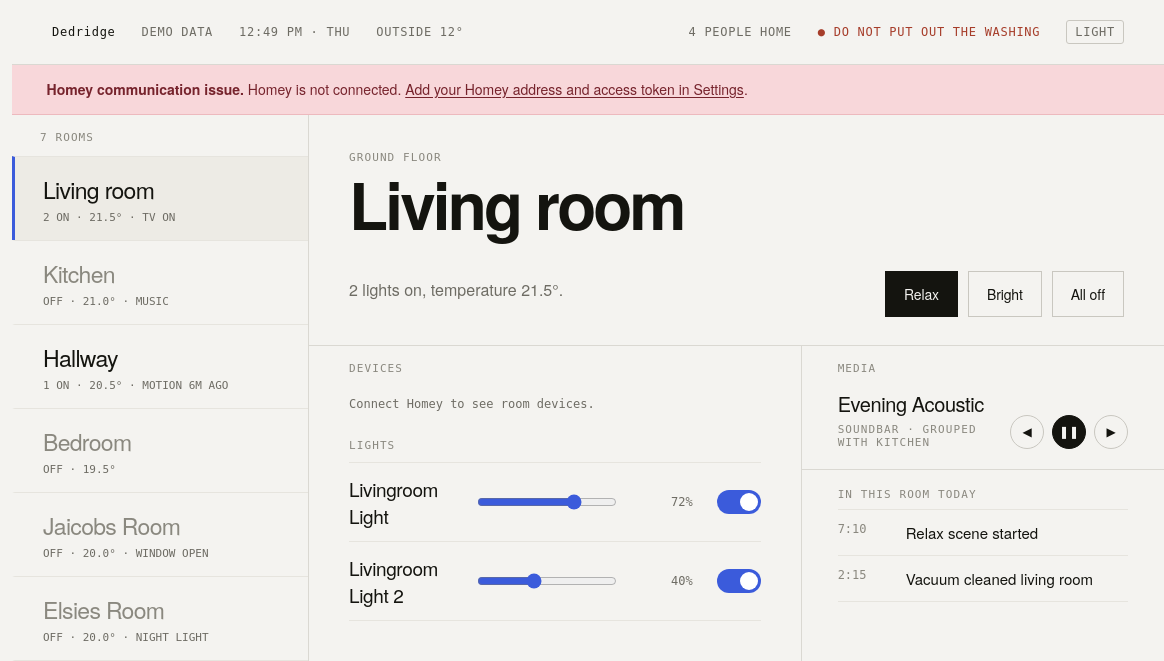
Scenario: RoomsPage bindings › turns individual lights on and off and adjusts their brightness
The width and height of the screenshot is (1164, 661).
Click the switch named "Livingroom Light power": {"x": 739, "y": 502} x1=717 y1=490 x2=761 y2=514
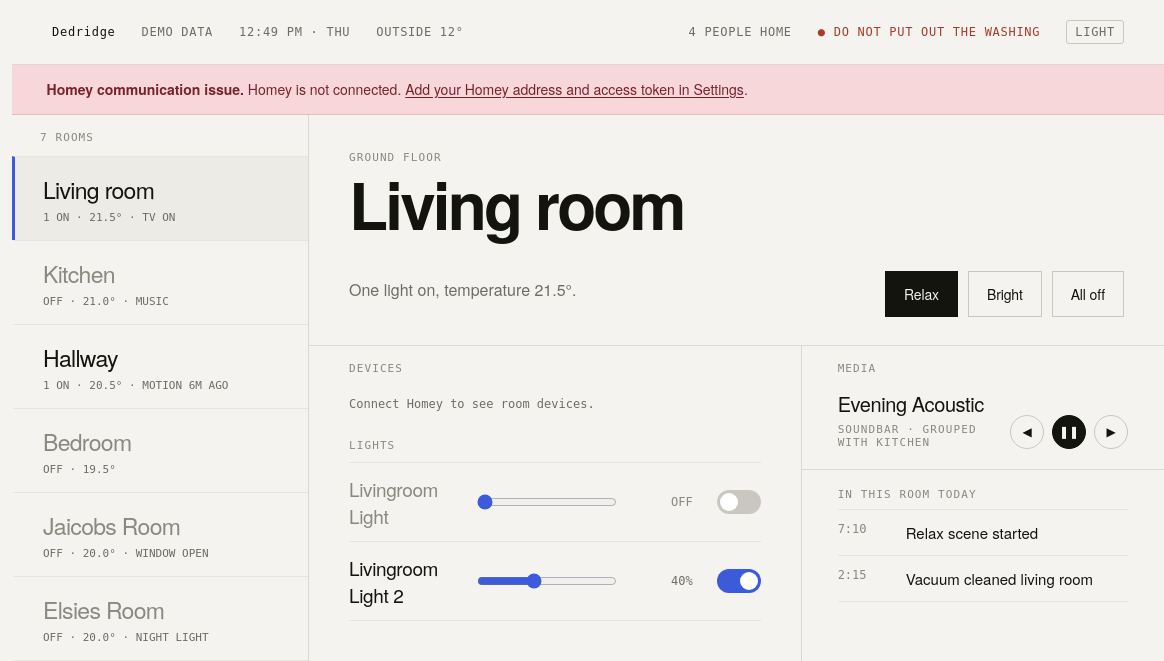
Click the switch named "Livingroom Light power": {"x": 739, "y": 502} x1=717 y1=490 x2=761 y2=514
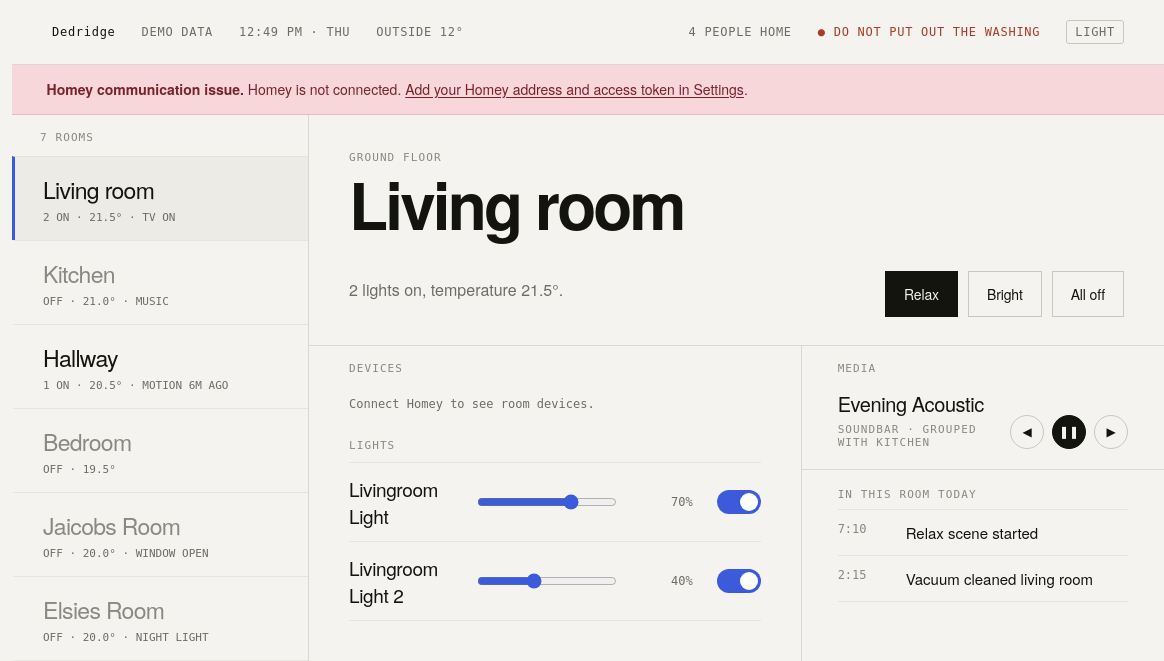
Set the slider named "Livingroom Light brightness" to "35": {"x": 528, "y": 502} x1=477 y1=494 x2=617 y2=510
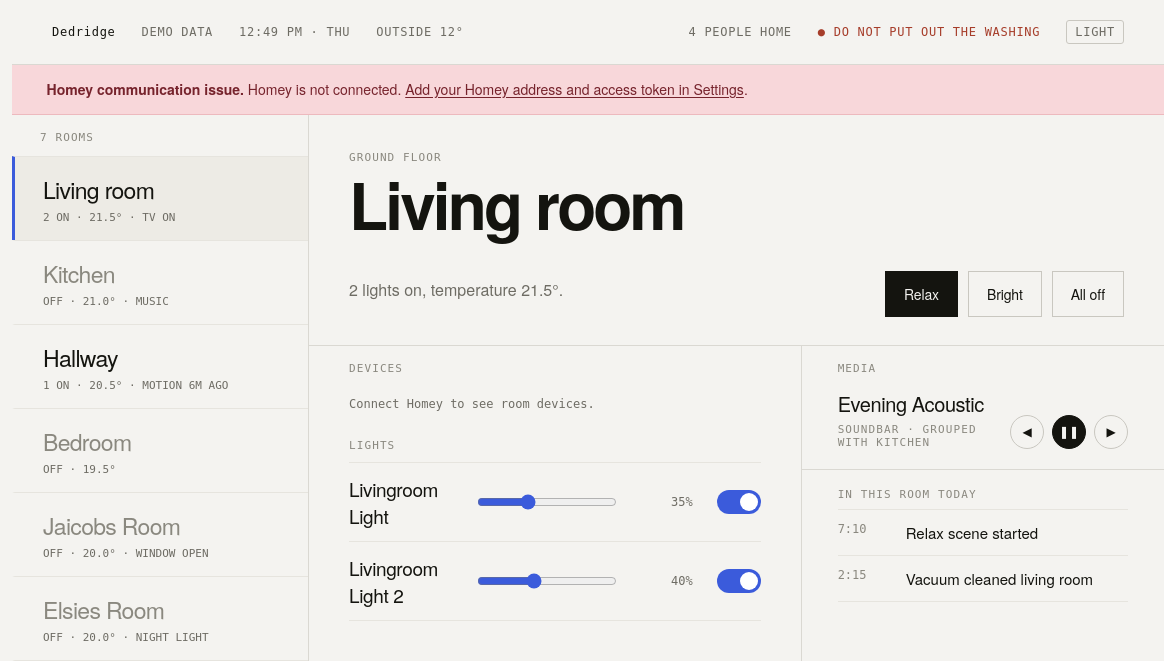
Expected: the text "35%" is shown, x1=671 y1=495 x2=693 y2=509
